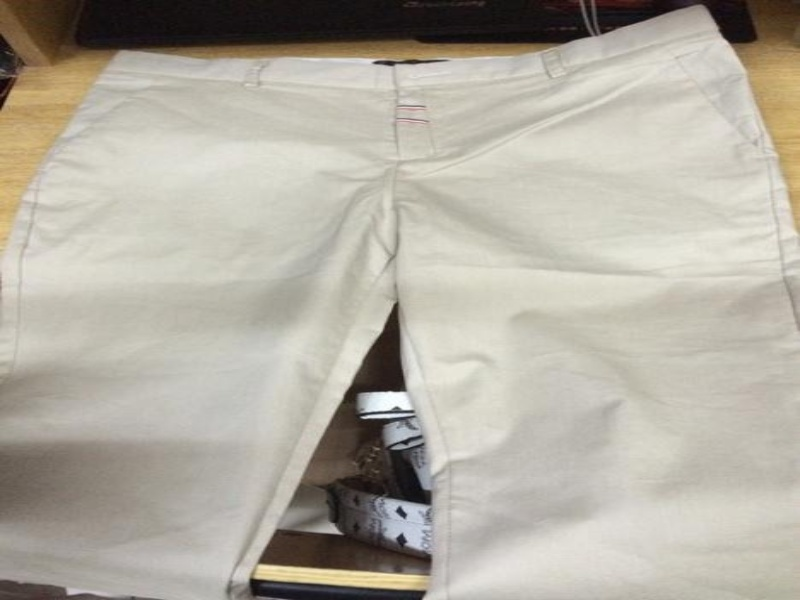trousers: (0, 5, 798, 599)
